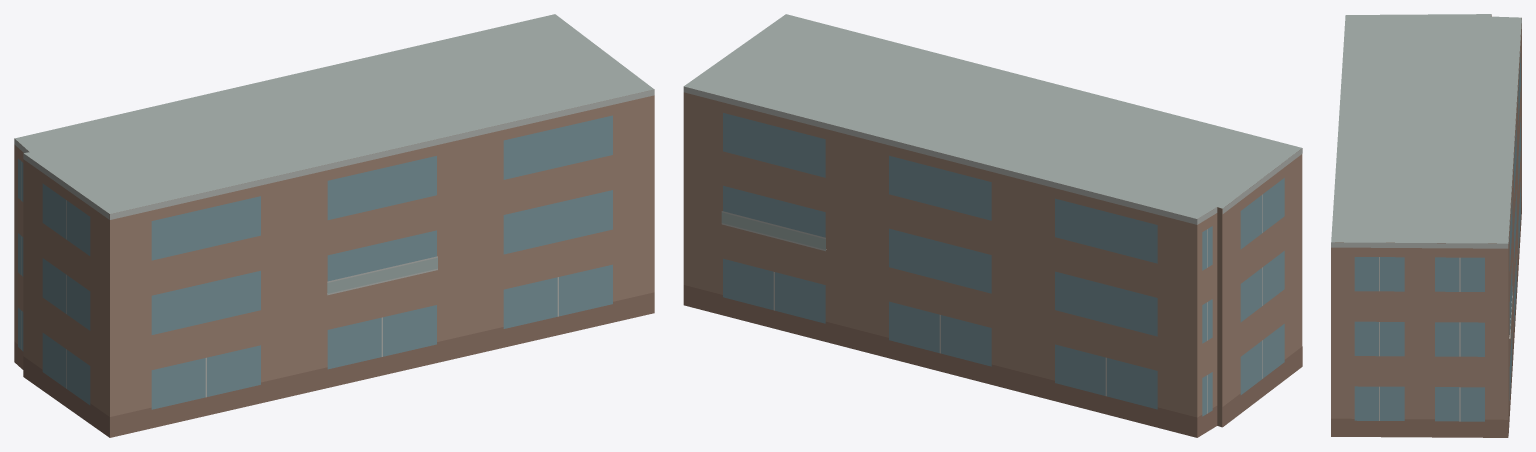
Rendered from survey-upis-32490677.glb.
The picture shows the model from 3 angles, left to right: view 1: azimuth 30°, elevation 25°; view 2: azimuth 150°, elevation 25°; view 3: azimuth 270°, elevation 25°; orthographic projection. The views are drawn at different scales.
Visible parts, largest first — view 1: survey-upis-32490677.tmp; view 2: survey-upis-32490677.tmp; view 3: survey-upis-32490677.tmp.
Part boxes in pixels (left/top/right/bottom): survey-upis-32490677.tmp: left=14, top=14, right=654, bottom=437; survey-upis-32490677.tmp: left=683, top=14, right=1302, bottom=437; survey-upis-32490677.tmp: left=1331, top=14, right=1521, bottom=437.
Size of the model in its own units: 23.18 by 9.15 by 8.15.
